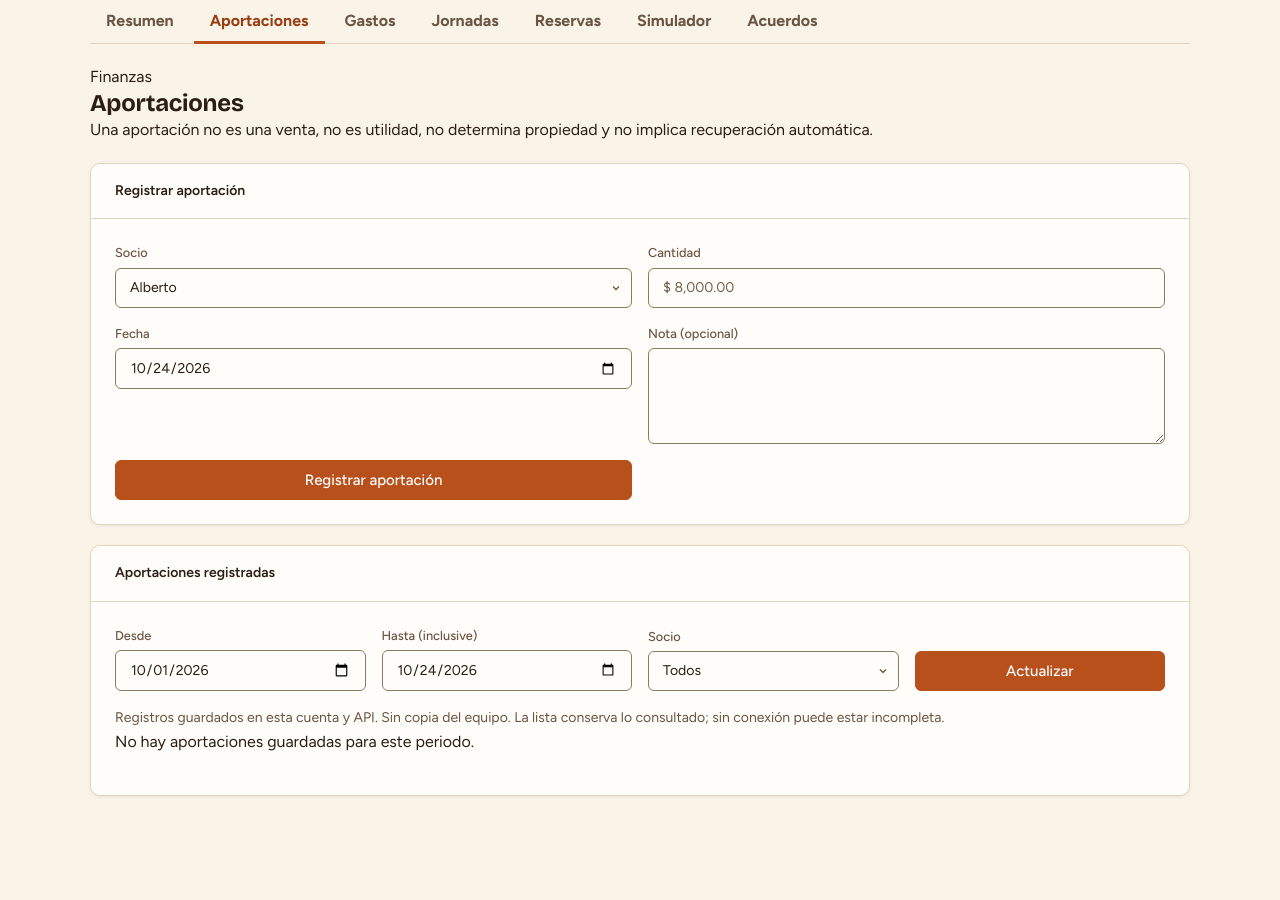
Test case: contribution management › does not claim success if durable storage fails
Select "Alberto" in the dropdown with id "contribution-member". click: {"x": 374, "y": 288}
box: x1=115 y1=268 x2=632 y2=308
Type "100" into the field with id "contribution-amount". click: {"x": 906, "y": 288}
box: x1=648 y1=268 x2=1165 y2=308
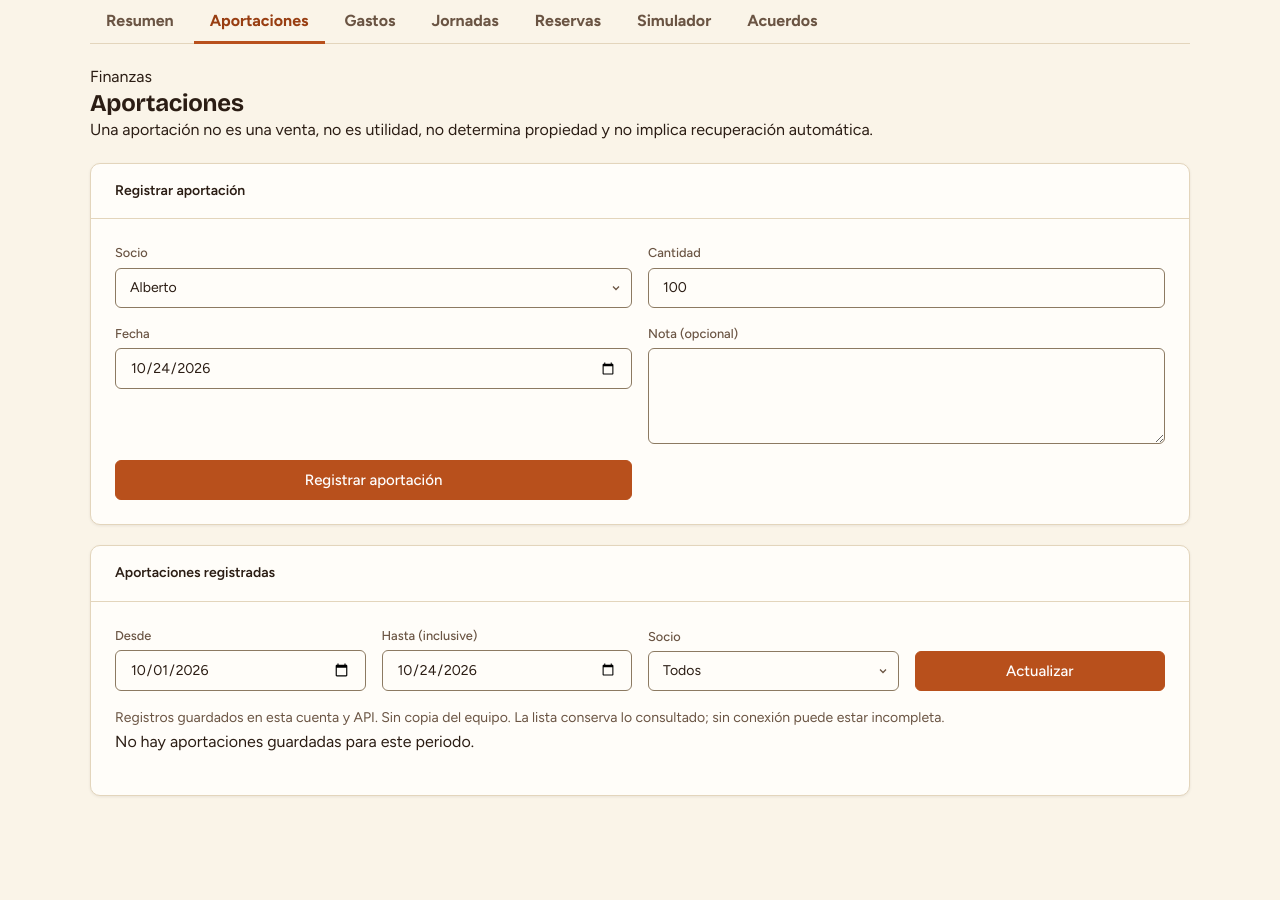
Submit the form with test id "create-form", box x1=115 y1=243 x2=1165 y2=500
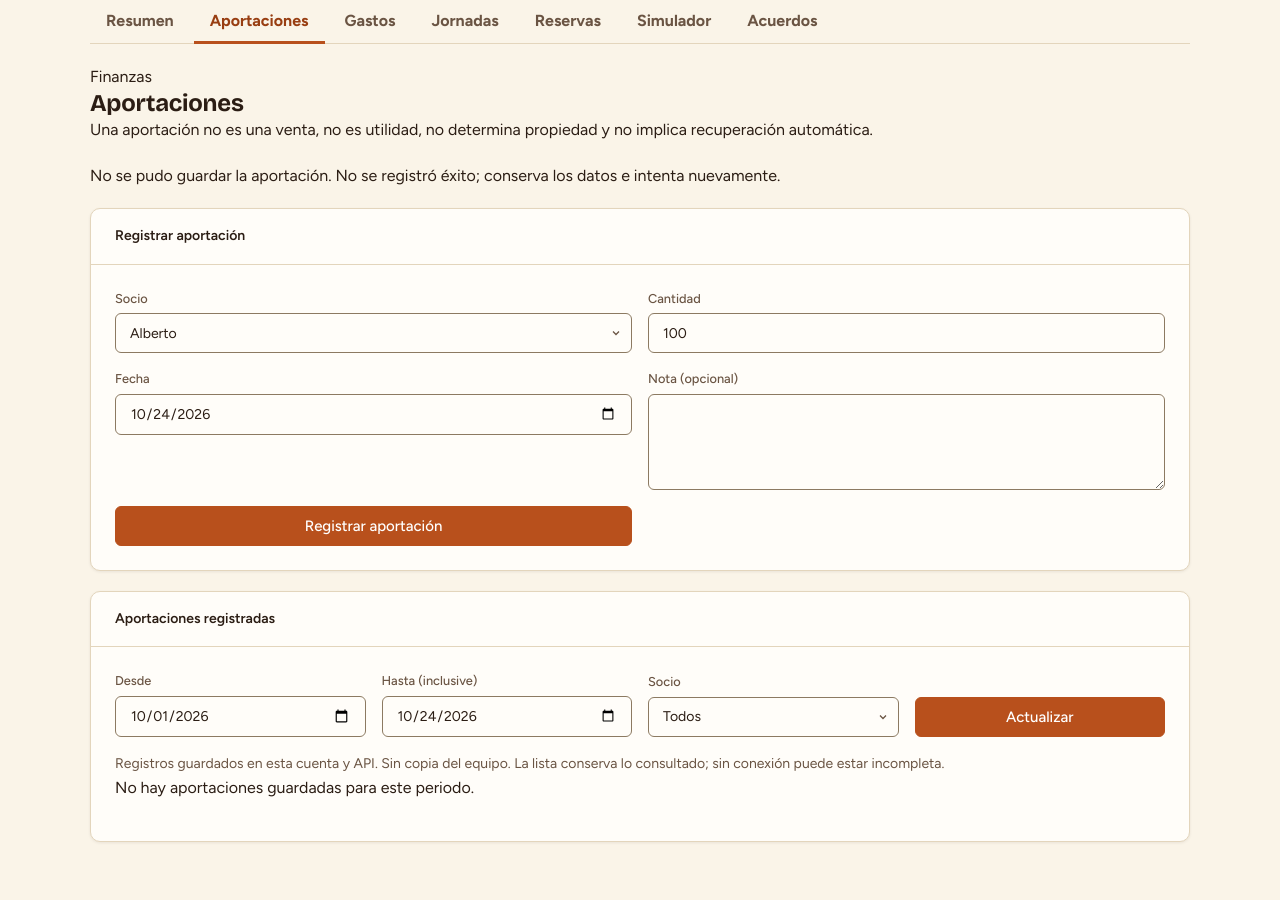
Expected: the text "No se pudo guardar" is shown, x1=90 y1=166 x2=780 y2=185
